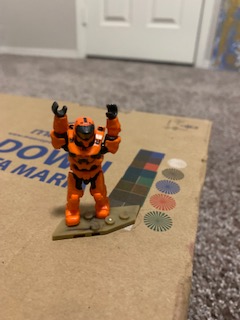spartan: (47, 100, 124, 228)
up: (48, 99, 122, 173)
